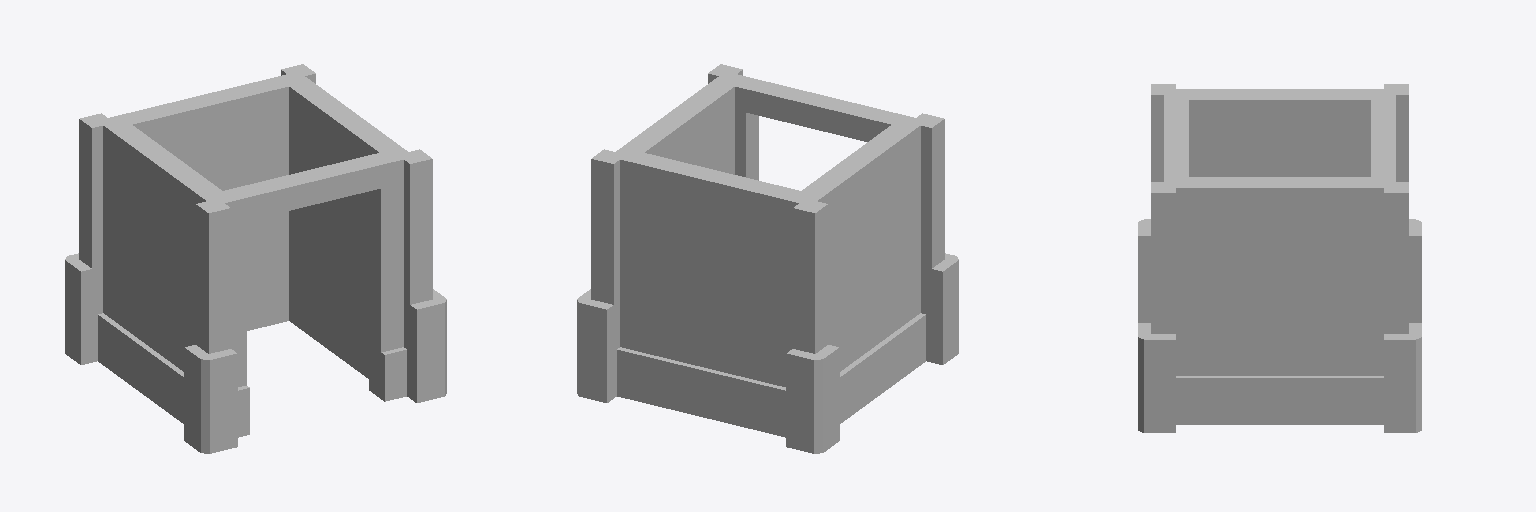
File: cryptSmall.obj
The picture shows the model from 3 angles: view 1: azimuth 30°, elevation 25°; view 2: azimuth 150°, elevation 25°; view 3: azimuth 270°, elevation 25°; orthographic projection.
Visible parts, largest first — view 1: cryptSmall; view 2: cryptSmall; view 3: cryptSmall.
Part boxes in pixels (left/top/right/bottom): cryptSmall: left=65, top=64, right=446, bottom=453; cryptSmall: left=577, top=64, right=958, bottom=453; cryptSmall: left=1138, top=84, right=1421, bottom=432.
Bounding box in the file's own units: 1.1 × 1 × 1.1.